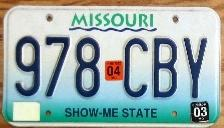7: (41, 34, 72, 99)
8: (72, 35, 103, 99)
9: (13, 34, 44, 97)
B: (151, 36, 179, 99)
C: (121, 35, 150, 99)
Y: (181, 35, 212, 99)
